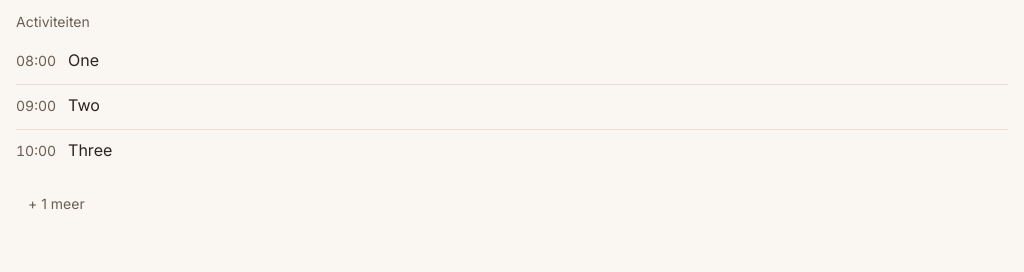
Test: TodayEventsRegion › test 87 (AC2.27): clicking "+ N meer" expands inline to show all
What coordinates should you click on to do the following:
click the button "+ 1 meer"
I would click on:
 (56, 204)
Its box is 16,182 -> 97,226.
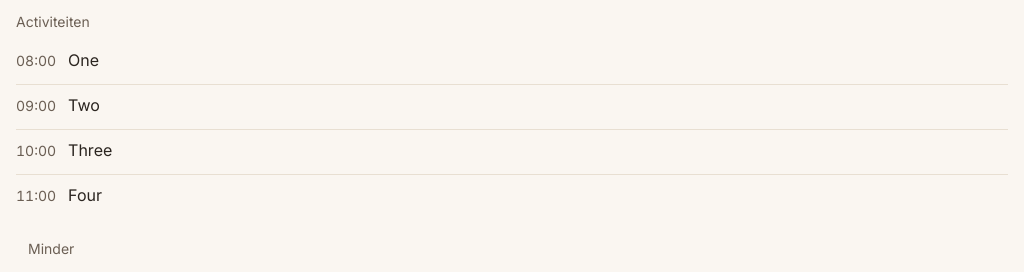
Expected: the number of list items is 4, 16,40 -> 1008,85; 16,85 -> 1008,130; 16,130 -> 1008,175; 16,175 -> 1008,219
Expected: the text "Four" is shown, 68,185 -> 102,205
